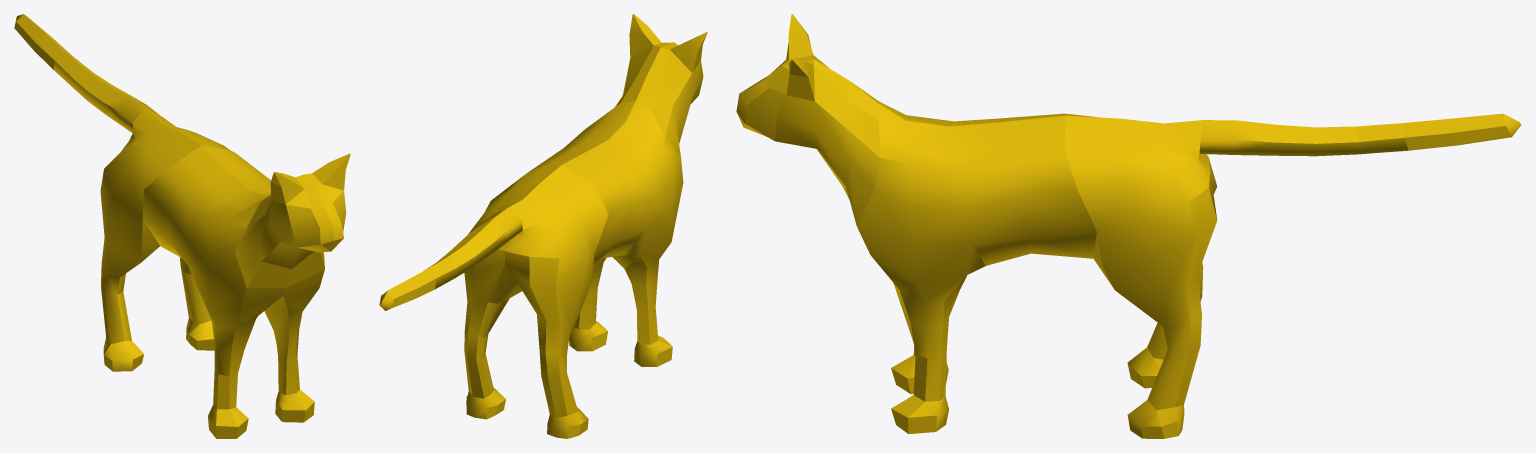
Rendered from Cat.fbx.
3 renders of one model, left to right at view 1: azimuth 30°, elevation 25°; view 2: azimuth 150°, elevation 25°; view 3: azimuth 270°, elevation 25°, orthographic. The views are drawn at different scales.
Visible parts, largest first — view 1: CatMesh2; view 2: CatMesh2; view 3: CatMesh2.
Part boxes in pixels (x1=…): CatMesh2: x1=14, y1=14, x2=350, y2=438; CatMesh2: x1=379, y1=14, x2=707, y2=438; CatMesh2: x1=736, y1=14, x2=1521, y2=438.
Size of the model in its own units: 4.74 by 11.5 by 22.22.
